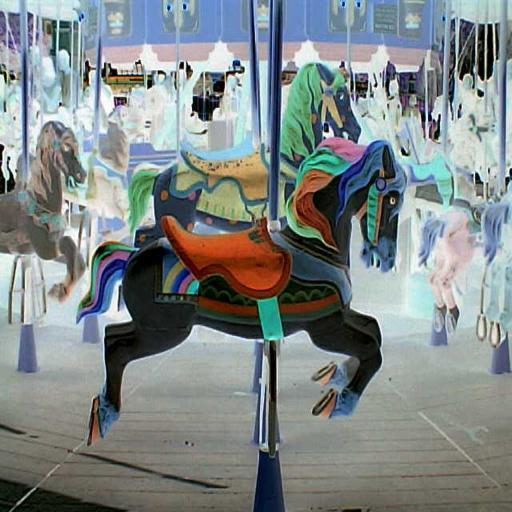horse: (74, 134, 410, 450), (115, 60, 363, 314), (0, 115, 90, 304), (412, 183, 509, 332), (474, 176, 512, 348), (430, 92, 452, 132)
